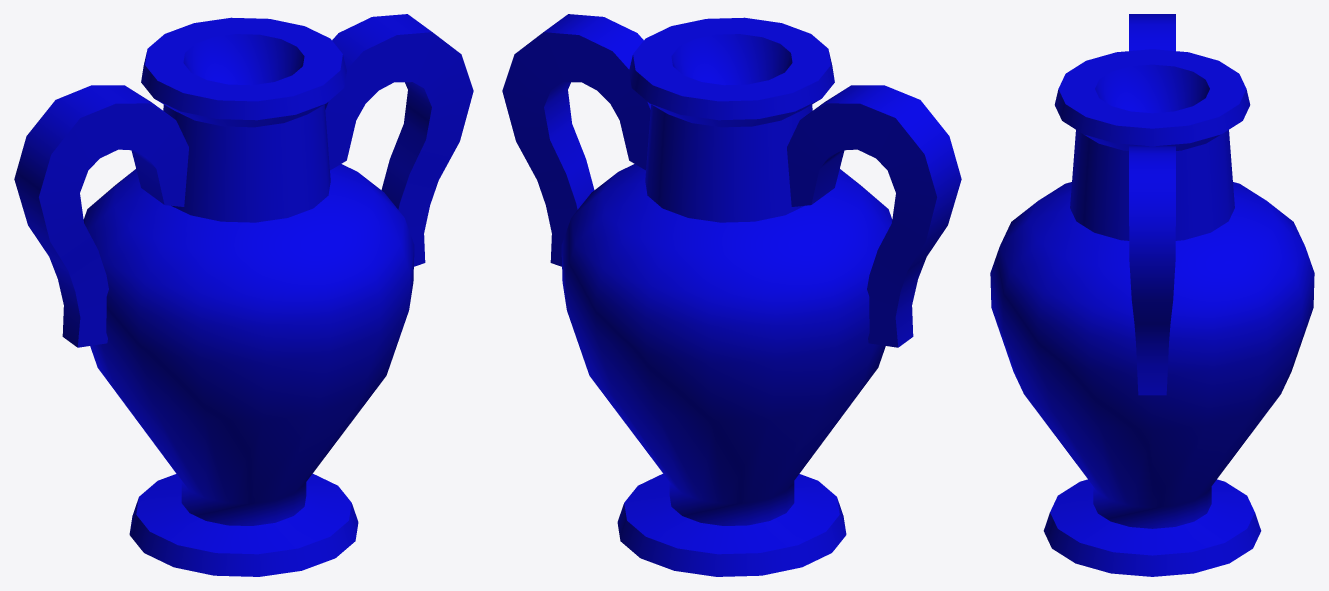
Rendered from SM_Jar_01.fbx.
3 views of the same model, side by side, from view 1: azimuth 30°, elevation 25°; view 2: azimuth 150°, elevation 25°; view 3: azimuth 270°, elevation 25° (orthographic). The views are drawn at different scales.
Visible parts, largest first — view 1: Jar_01; view 2: Jar_01; view 3: Jar_01.
Part boxes in pixels (<box>): Jar_01: <box>14,14,473,576</box>; Jar_01: <box>502,14,961,576</box>; Jar_01: <box>990,14,1314,576</box>.
Size of the model in its own units: 81.97 by 84.47 by 56.14.
